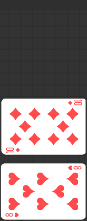10D: (66, 100, 83, 107)
8H: (66, 165, 82, 172)
